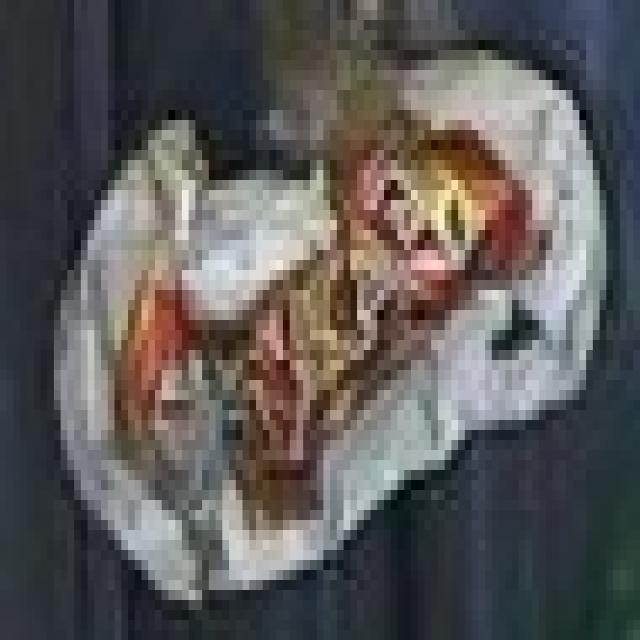litter: (40, 16, 628, 640)
